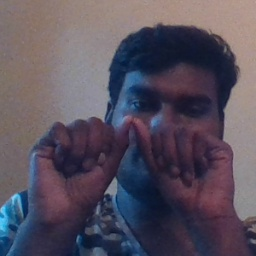A: (56, 105, 209, 204)
